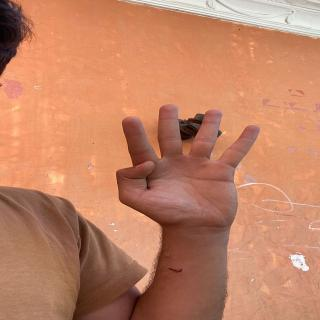SHEEN: (114, 98, 266, 230)
